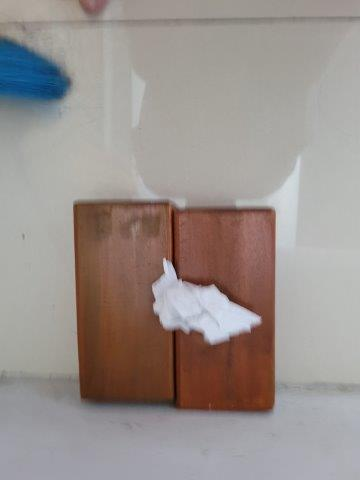kertas: (149, 258, 267, 351)
